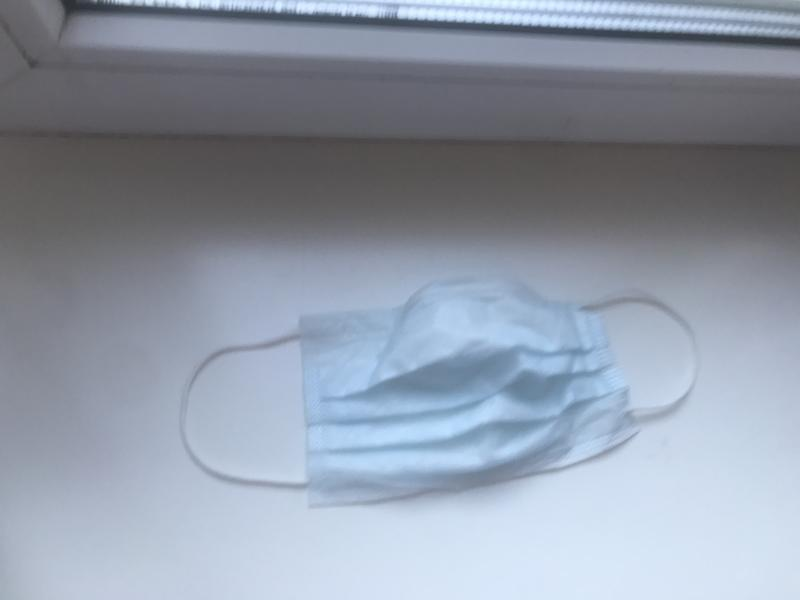medical_mask: (180, 279, 702, 503)
